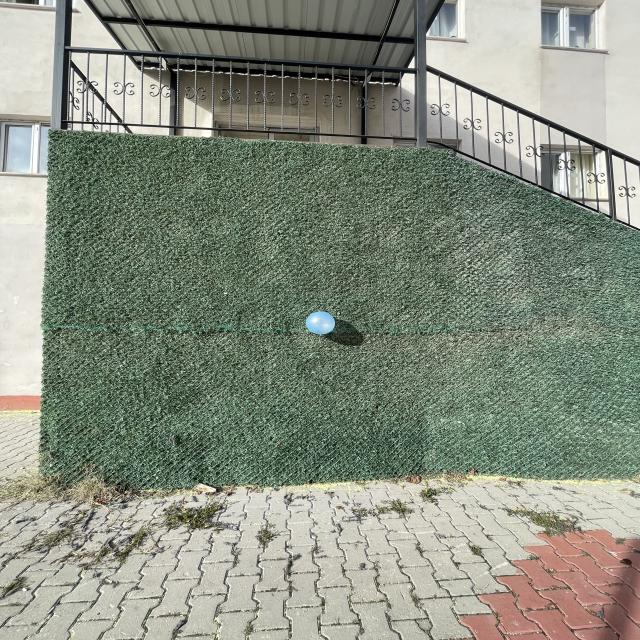balloon: (306, 311, 335, 335)
